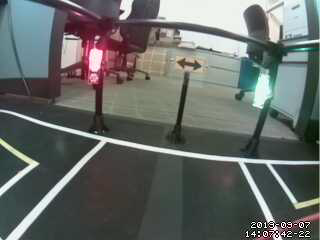Left_Right_sign: (171, 48, 210, 76)
Traffic_light_green: (253, 66, 274, 108)
Traffic_light_red: (84, 43, 108, 82)
